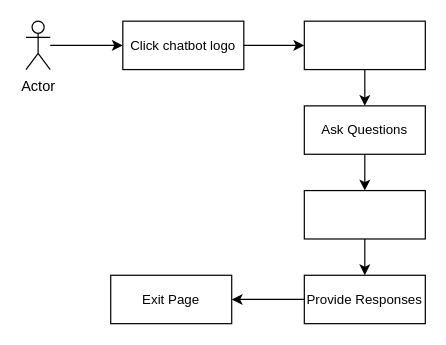
This 446x345 diagram has some shape labels left out. The centre of each missing label's shape, as x and y in pixels:
"Chatbot Processes" goes at (364,214).
"Launch chatbot" goes at (364,45).
